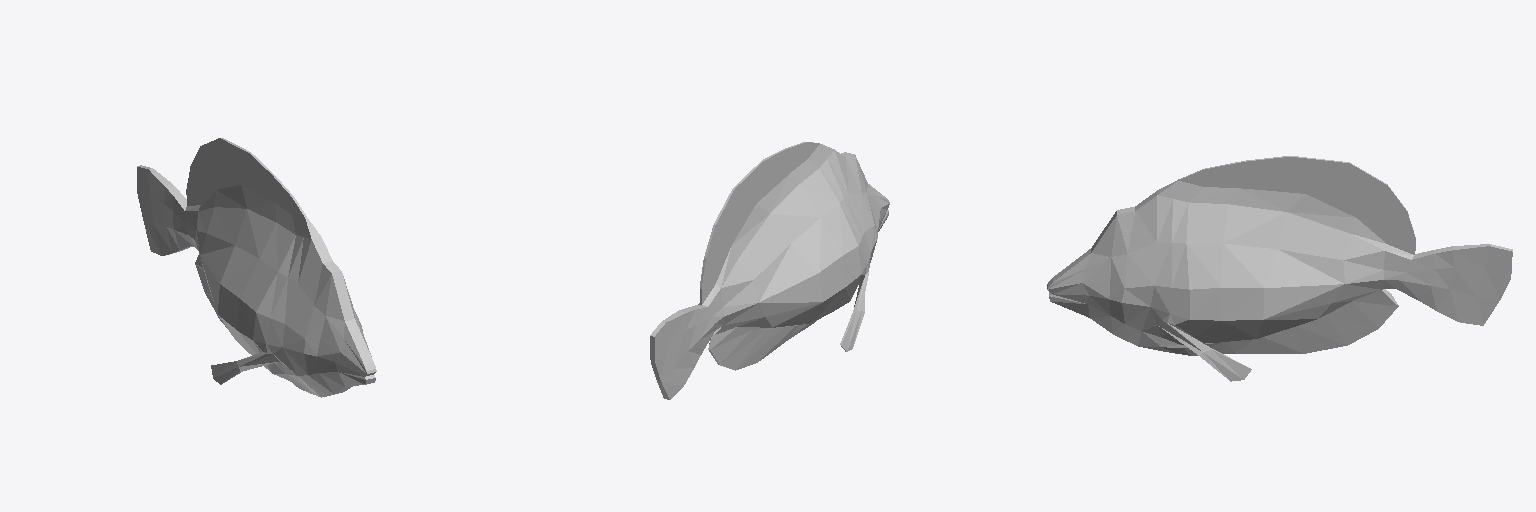
The model's file is fish8.obj.
The picture shows the model from 3 angles: view 1: azimuth 30°, elevation 25°; view 2: azimuth 150°, elevation 25°; view 3: azimuth 270°, elevation 25°; orthographic projection.
Visible parts, largest first — view 1: TropicalFish08:TropicalFish08; view 2: TropicalFish08:TropicalFish08; view 3: TropicalFish08:TropicalFish08.
Part boxes in pixels (bbox=[...]): TropicalFish08:TropicalFish08: bbox=[137, 138, 376, 397]; TropicalFish08:TropicalFish08: bbox=[650, 142, 889, 399]; TropicalFish08:TropicalFish08: bbox=[1047, 156, 1512, 381].
Bounding box in the file's own units: 1.72 × 2.69 × 5.69.